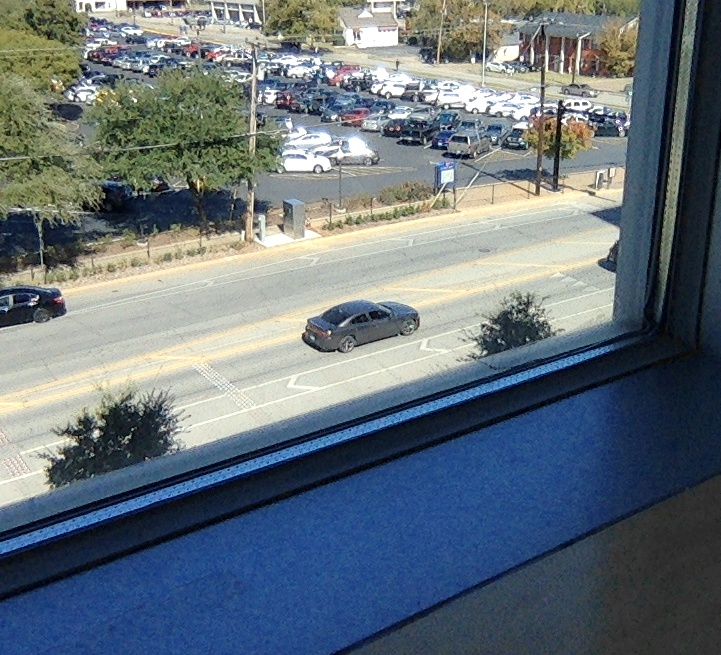car: (300, 300, 421, 355)
